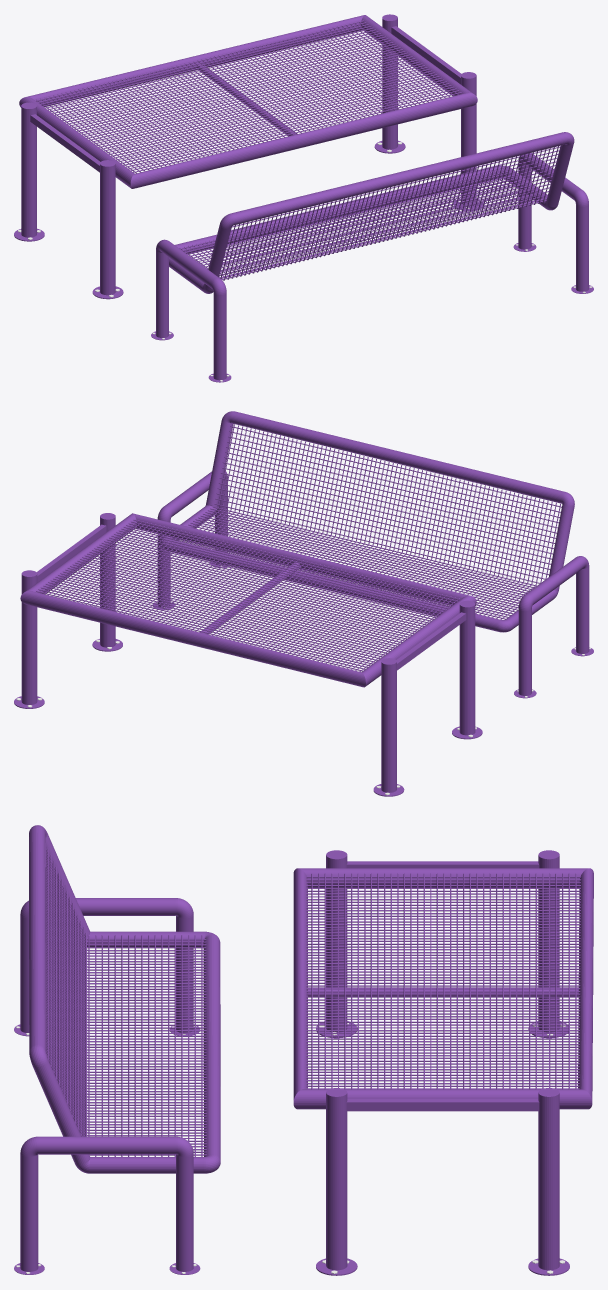
File: SitzbankModell.fbx
3 views of the same model, one above another, from view 1: azimuth 30°, elevation 25°; view 2: azimuth 150°, elevation 25°; view 3: azimuth 270°, elevation 25° (orthographic). The views are drawn at different scales.
Visible parts, largest first — view 1: Cylinder.006, Cylinder.025; view 2: Cylinder.006, Cylinder.025; view 3: Cylinder.006, Cylinder.025.
Boxes of the visible parts, box(x1,y1,x2,y2) form: Cylinder.006: box(14, 14, 483, 299); Cylinder.025: box(151, 132, 593, 382); Cylinder.006: box(14, 513, 482, 796); Cylinder.025: box(153, 411, 593, 698); Cylinder.006: box(293, 850, 593, 1275); Cylinder.025: box(14, 825, 220, 1274).
Bounding box in the file's own units: 586 × 229 × 563.
